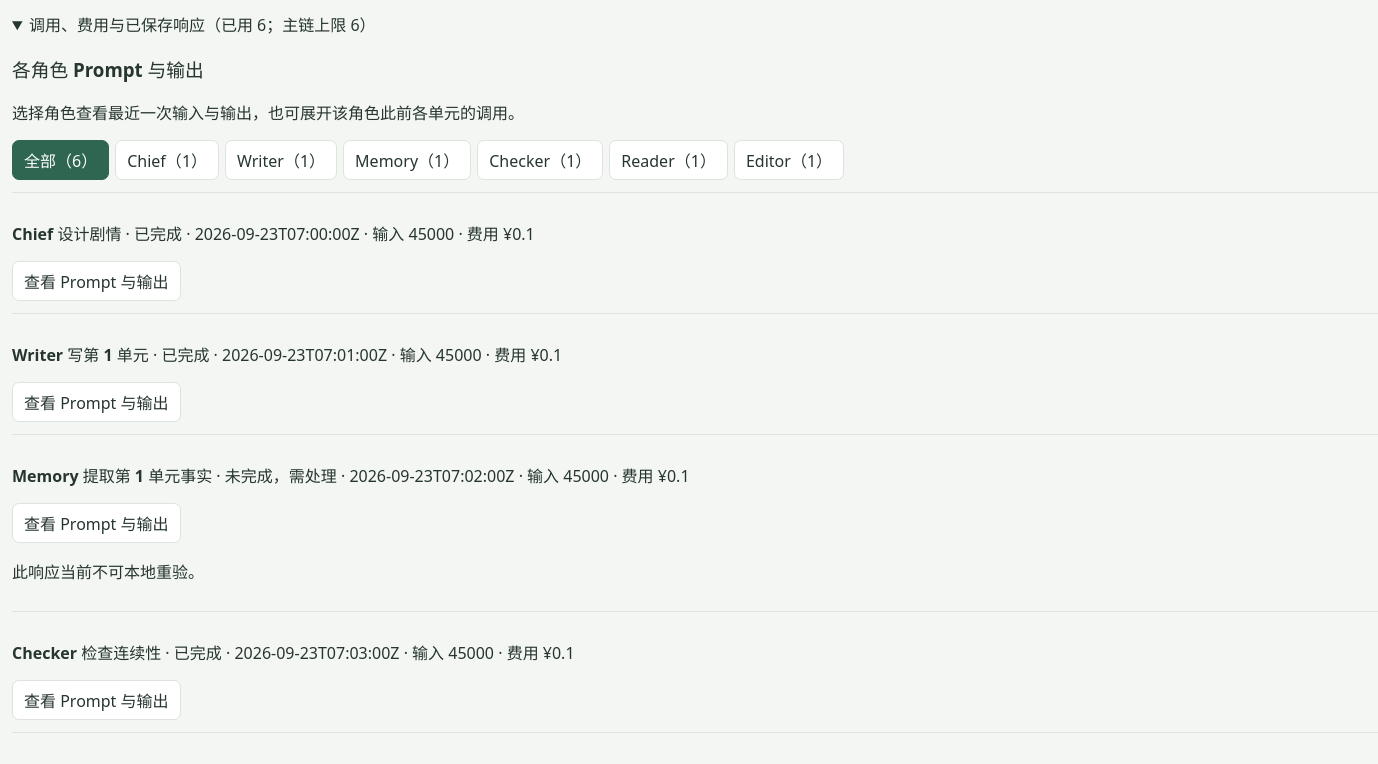
Test case: original agent call records › shows saved selection counts without treating bytes as model tokens
Click the button with aria-label "Chief 设计剧情：查看 Prompt 与输出": (96, 281) left=12, top=261, right=180, bottom=301
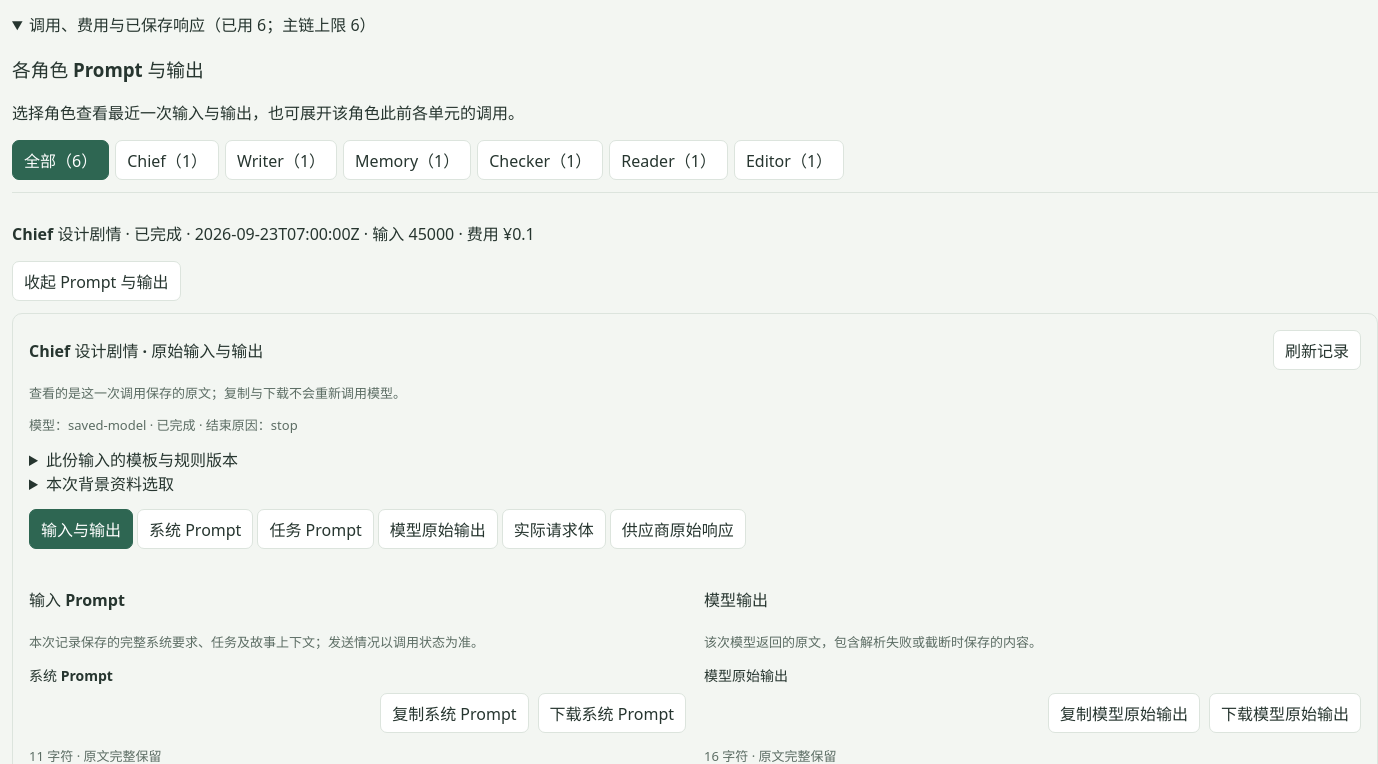
Now the heading "本次背景资料选取" is shown, box left=46, top=473, right=174, bottom=495
